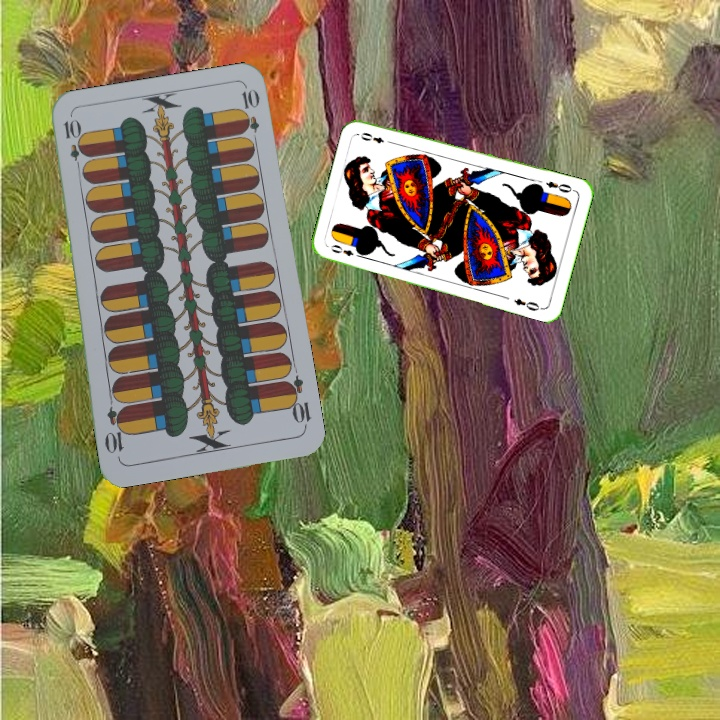E10: (281, 372, 313, 431), (59, 115, 85, 174)
EO: (542, 177, 578, 195), (327, 240, 356, 259)
